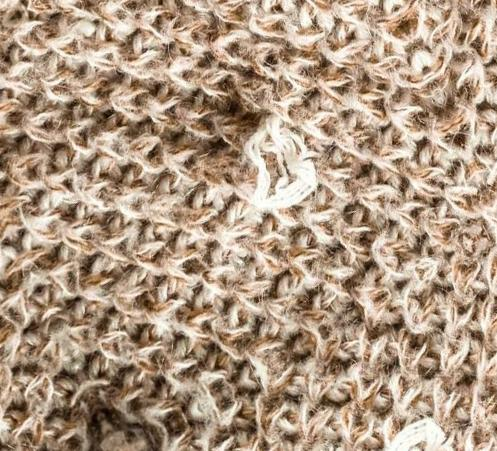snag: (233, 119, 324, 223)
